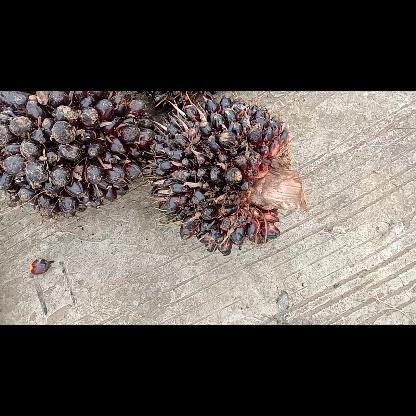TBS mentah: (151, 96, 313, 258), (0, 91, 157, 220)
